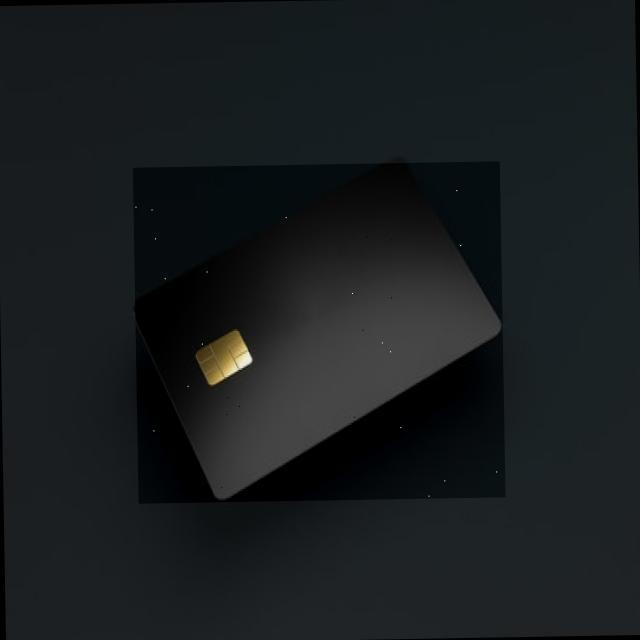payment_card: (132, 161, 503, 501)
